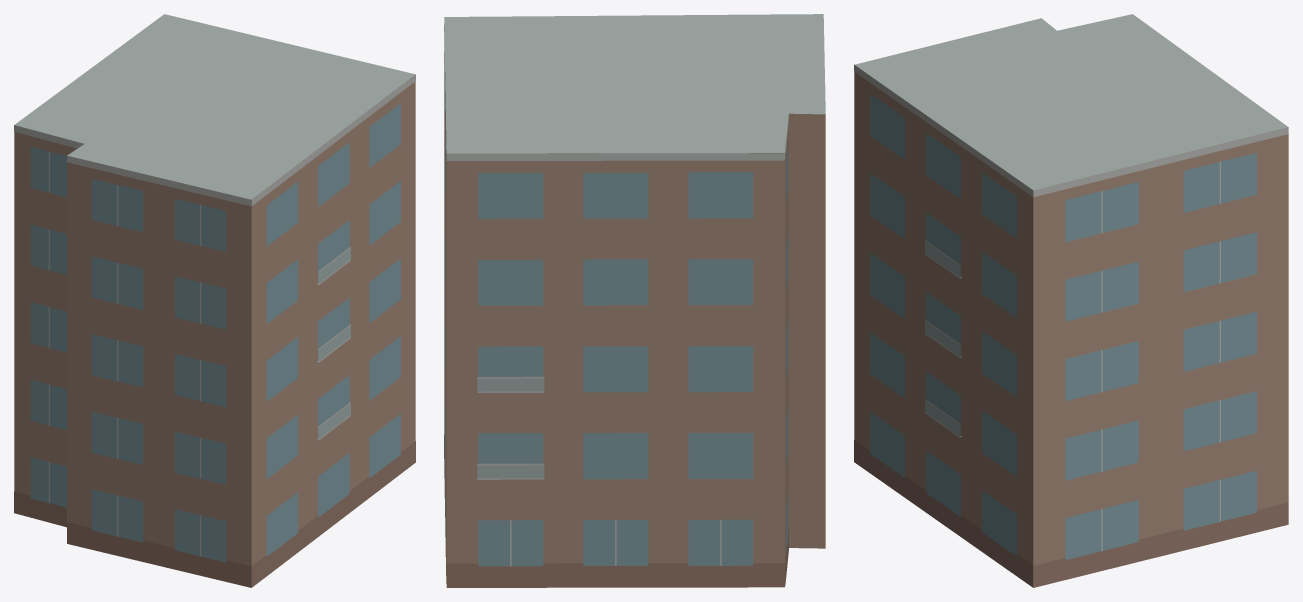
The model's file is survey-upis-32687780.glb.
3 renders of one model, left to right at view 1: azimuth 30°, elevation 25°; view 2: azimuth 150°, elevation 25°; view 3: azimuth 270°, elevation 25°, orthographic. The views are drawn at different scales.
Parts seen in each view (by area): view 1: survey-upis-32687780.tmp; view 2: survey-upis-32687780.tmp; view 3: survey-upis-32687780.tmp.
Boxes of the visible parts, x1,y1,x2,y2 form: survey-upis-32687780.tmp: (14, 14, 415, 587); survey-upis-32687780.tmp: (444, 14, 825, 587); survey-upis-32687780.tmp: (854, 14, 1288, 587).
Bounding box in the file's own units: 13.53 × 14.2 × 14.08.
